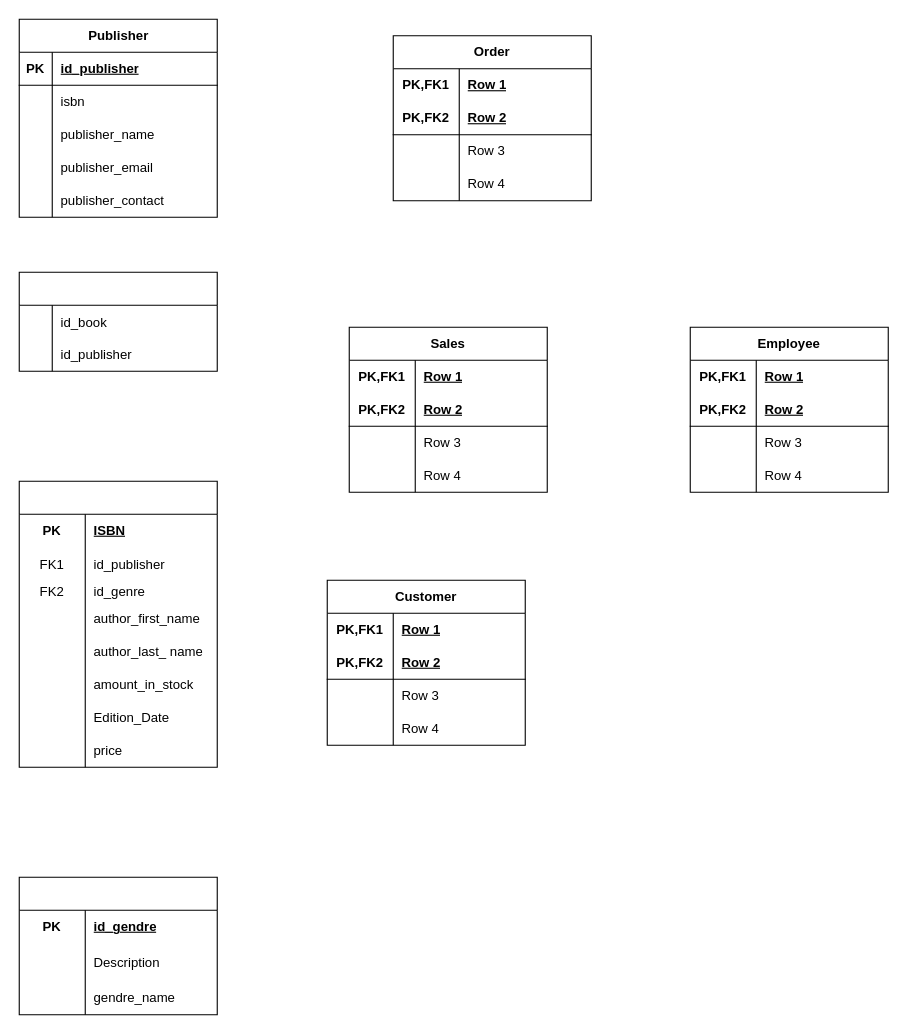
The diagram is 908 pixels wide and 1034 high, and some of its shapes have lost their labels. The shapes that lost their labels are listed below. From the top down, each one's box as (x1, y1, x2, y2) in pixels, then its label:
(18, 271, 217, 371): book_publisher
(18, 480, 217, 767): Book
(18, 876, 217, 1015): Genre
